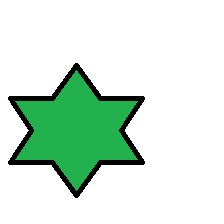star: (8, 63, 145, 199)
